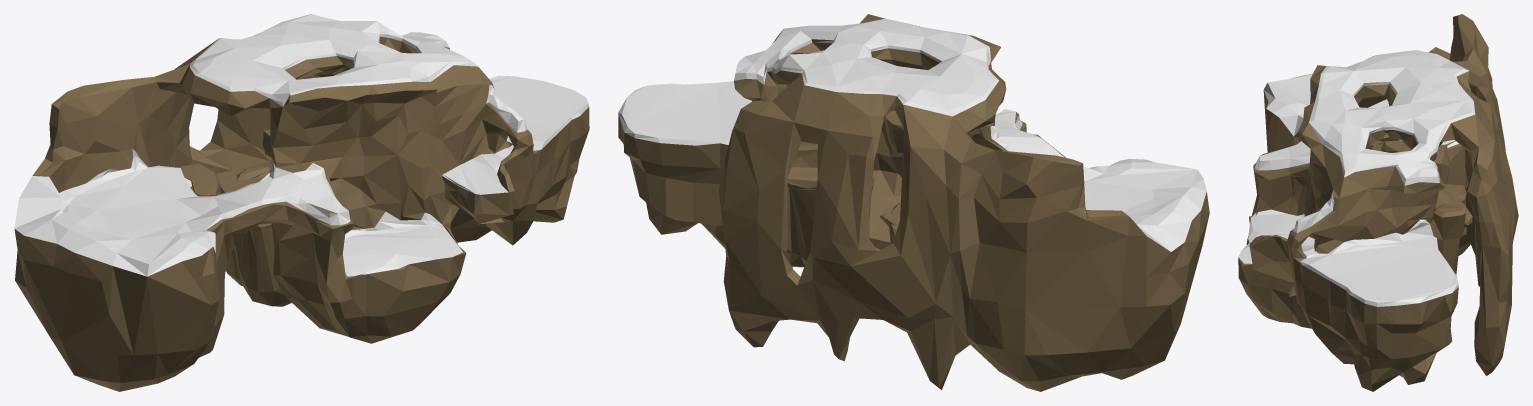
File: LightRockFloorVlargeSnowyPlatform1.fbx
3 renders of one model, left to right at view 1: azimuth 30°, elevation 25°; view 2: azimuth 150°, elevation 25°; view 3: azimuth 270°, elevation 25°, orthographic. The views are drawn at different scales.
Parts seen in each view (by area): view 1: LightRockFloorVlargeSnowyPlatform1; view 2: LightRockFloorVlargeSnowyPlatform1; view 3: LightRockFloorVlargeSnowyPlatform1.
Part boxes in pixels (left/top/right/bottom): LightRockFloorVlargeSnowyPlatform1: left=14, top=14, right=589, bottom=391; LightRockFloorVlargeSnowyPlatform1: left=618, top=14, right=1209, bottom=391; LightRockFloorVlargeSnowyPlatform1: left=1238, top=14, right=1518, bottom=391.
Size of the model in its own units: 7969 by 3759 by 3808.
